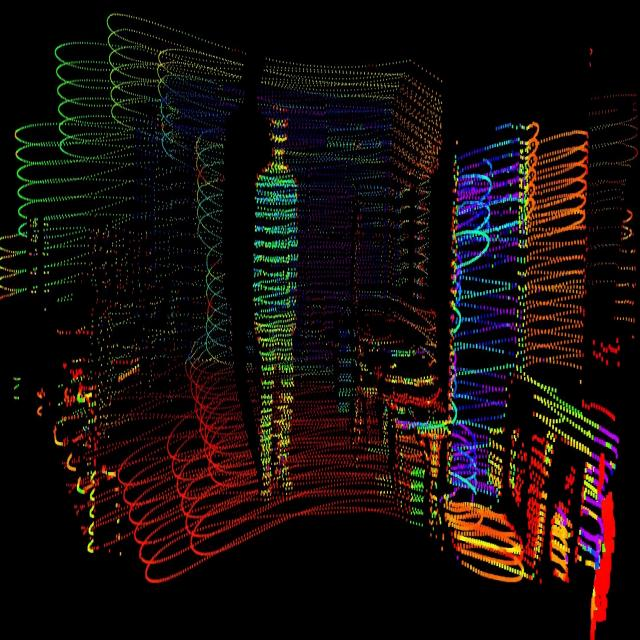human: (248, 90, 304, 507)
